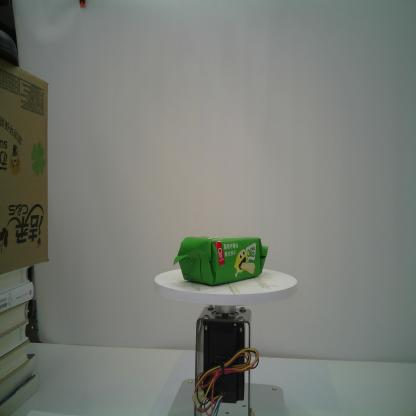Dessert: (170, 234, 270, 288)
